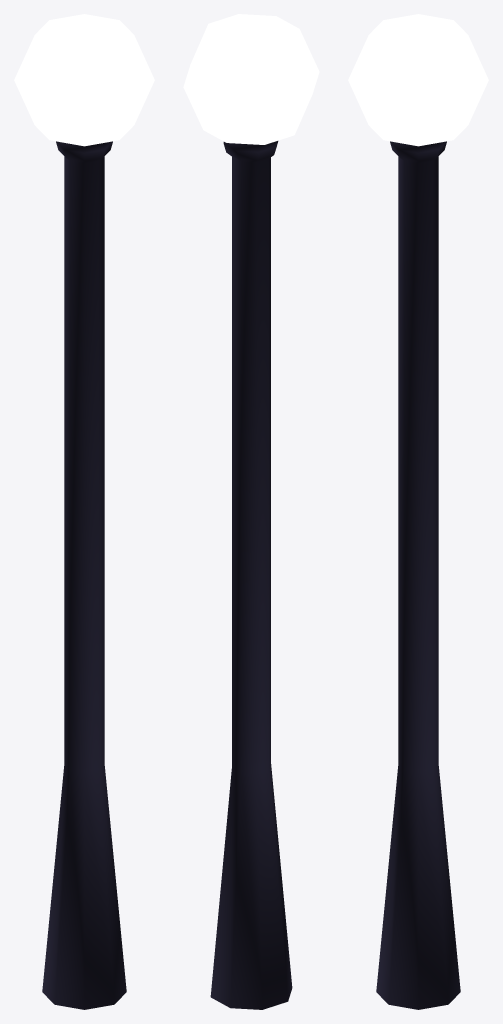
Rendered from lamp_post.glb.
3 renders of one model, left to right at view 1: azimuth 90°, elevation 25°; view 2: azimuth 150°, elevation 25°; view 3: azimuth 270°, elevation 25°, orthographic.
Parts seen in each view (by area): view 1: LampPost; view 2: LampPost; view 3: LampPost.
Boxes of the visible parts, bbox=[...] form: LampPost: bbox=[14, 14, 154, 1009]; LampPost: bbox=[183, 14, 319, 1009]; LampPost: bbox=[348, 14, 488, 1009].
Size of the model in its own units: 0.42 by 3.21 by 0.42.
1 material, 1 textured.
